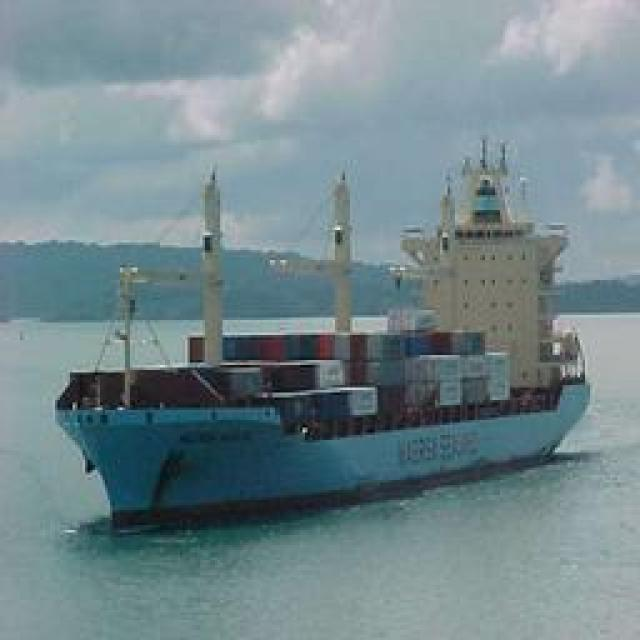ship2: (52, 147, 591, 535)
